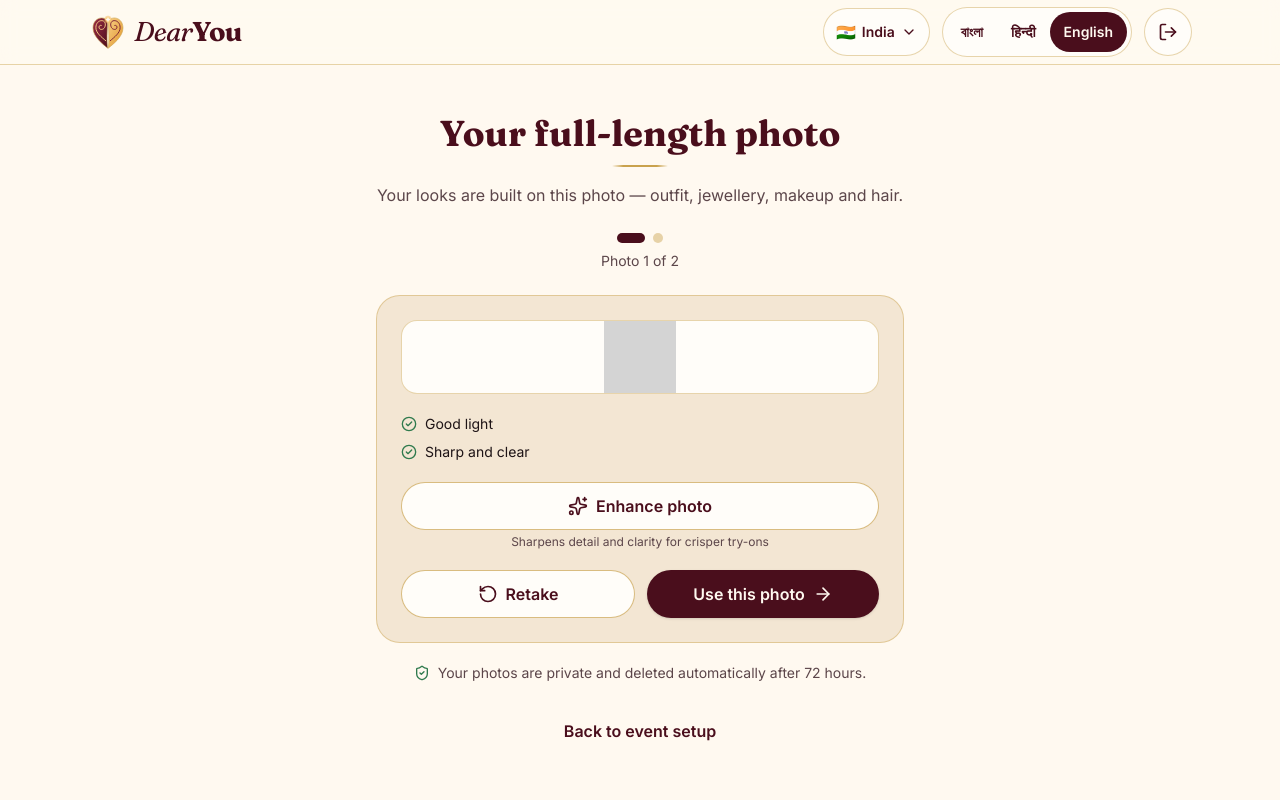
enhance a photo › keeps the original and explains when enhancing fails
Expected: the text "Sharpens detail and clarity for crisper try-ons" is shown, [511, 534, 769, 549]
What coordinates should you click on to do the following:
click the button "Enhance photo"
I would click on:
 (640, 506)
Its box is [401, 482, 879, 530].
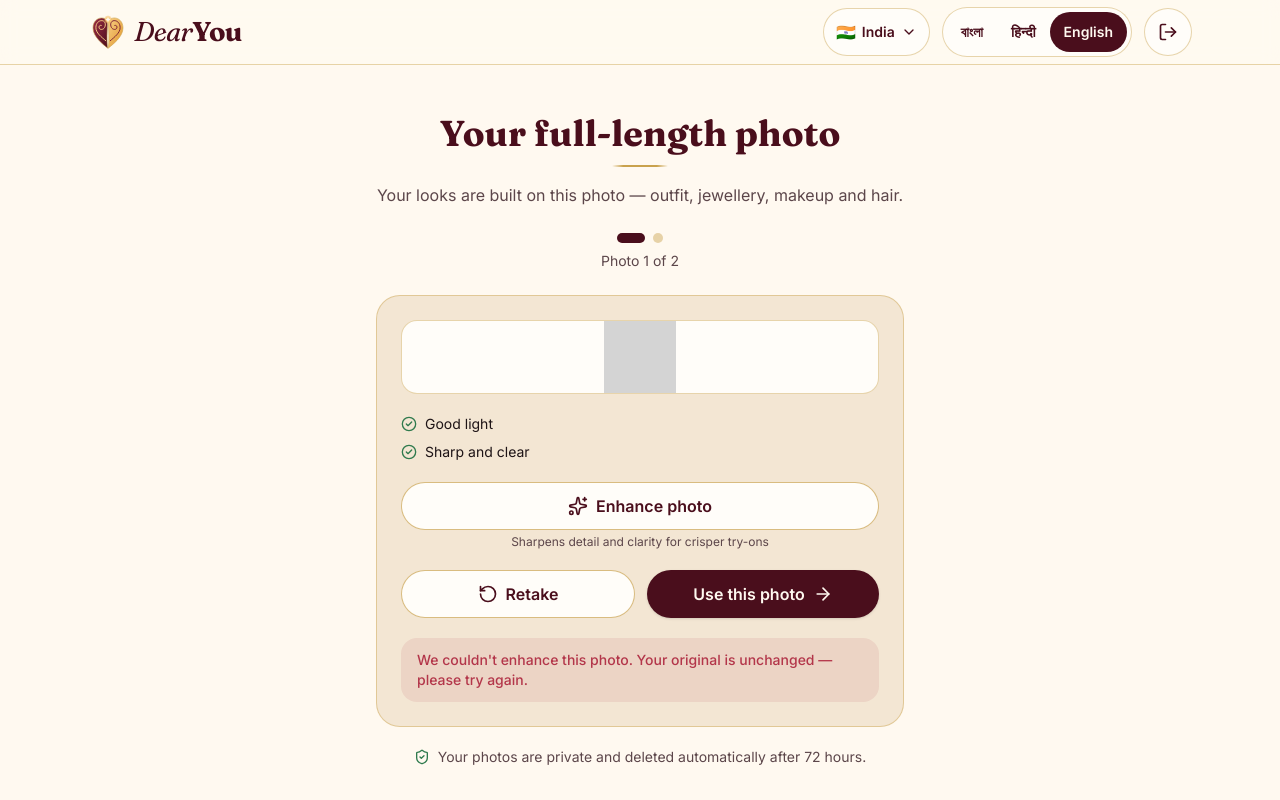
Result: the message reads "We couldn't enhance this photo. Your original is unchanged — please try again." at [417, 651, 832, 688]
